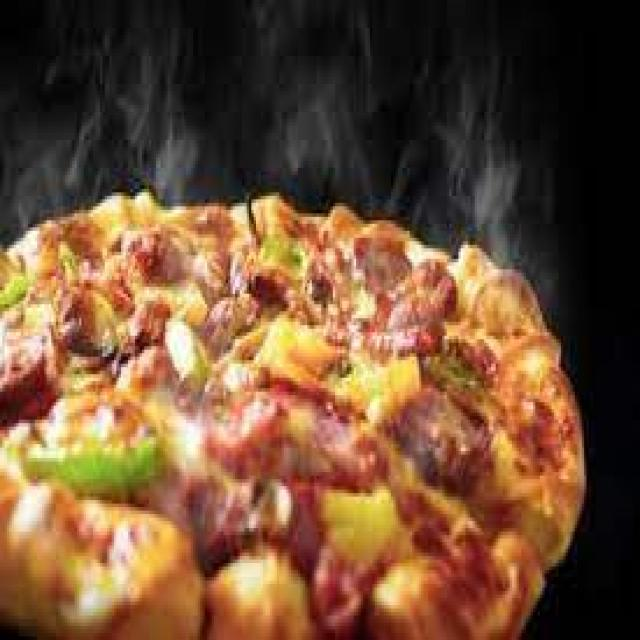Pizza: (0, 224, 575, 640)
